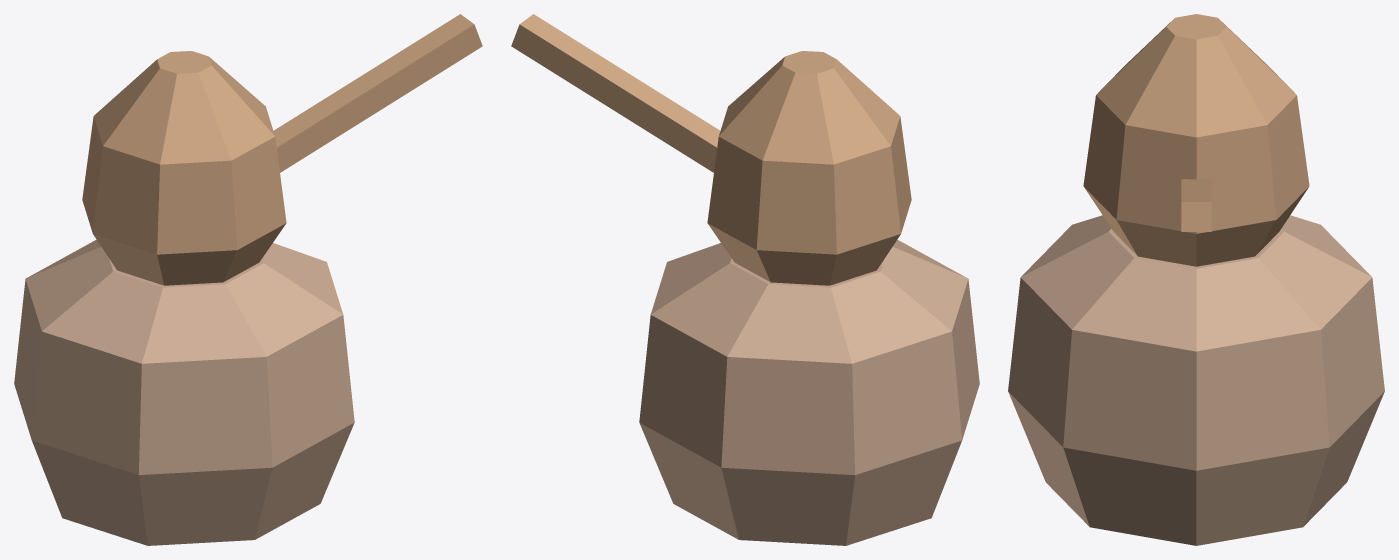
File: prop-still-blank-pf1.fbx
3 views of the same model, side by side, from view 1: azimuth 30°, elevation 25°; view 2: azimuth 150°, elevation 25°; view 3: azimuth 270°, elevation 25° (orthographic). The views are drawn at different scales.
Visible parts, largest first — view 1: prop-still-blank-pf1; view 2: prop-still-blank-pf1; view 3: prop-still-blank-pf1.
Part boxes in pixels (x1,y1,x2,y2): prop-still-blank-pf1: [14, 14, 482, 545]; prop-still-blank-pf1: [511, 14, 979, 545]; prop-still-blank-pf1: [1008, 14, 1384, 545].
Size of the model in its own units: 21.81 by 20 by 15.
